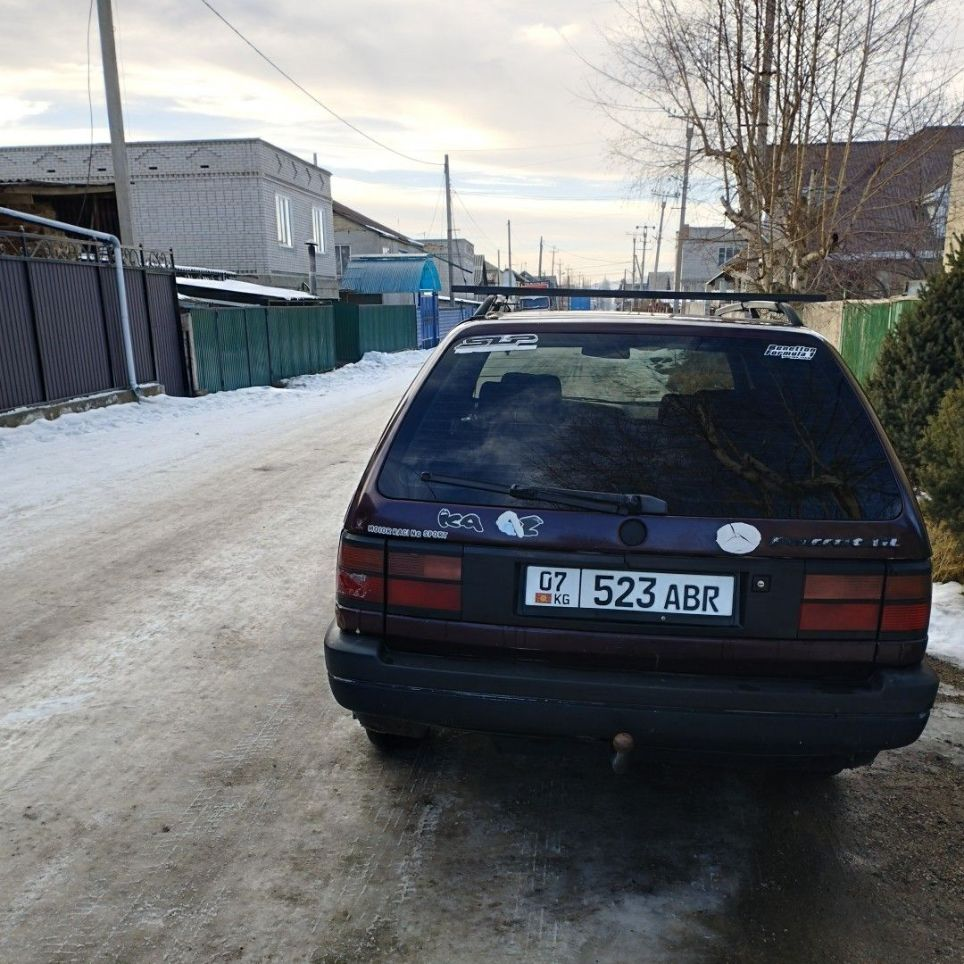license plate: (523, 565, 737, 622)
truck: (314, 306, 935, 801)
